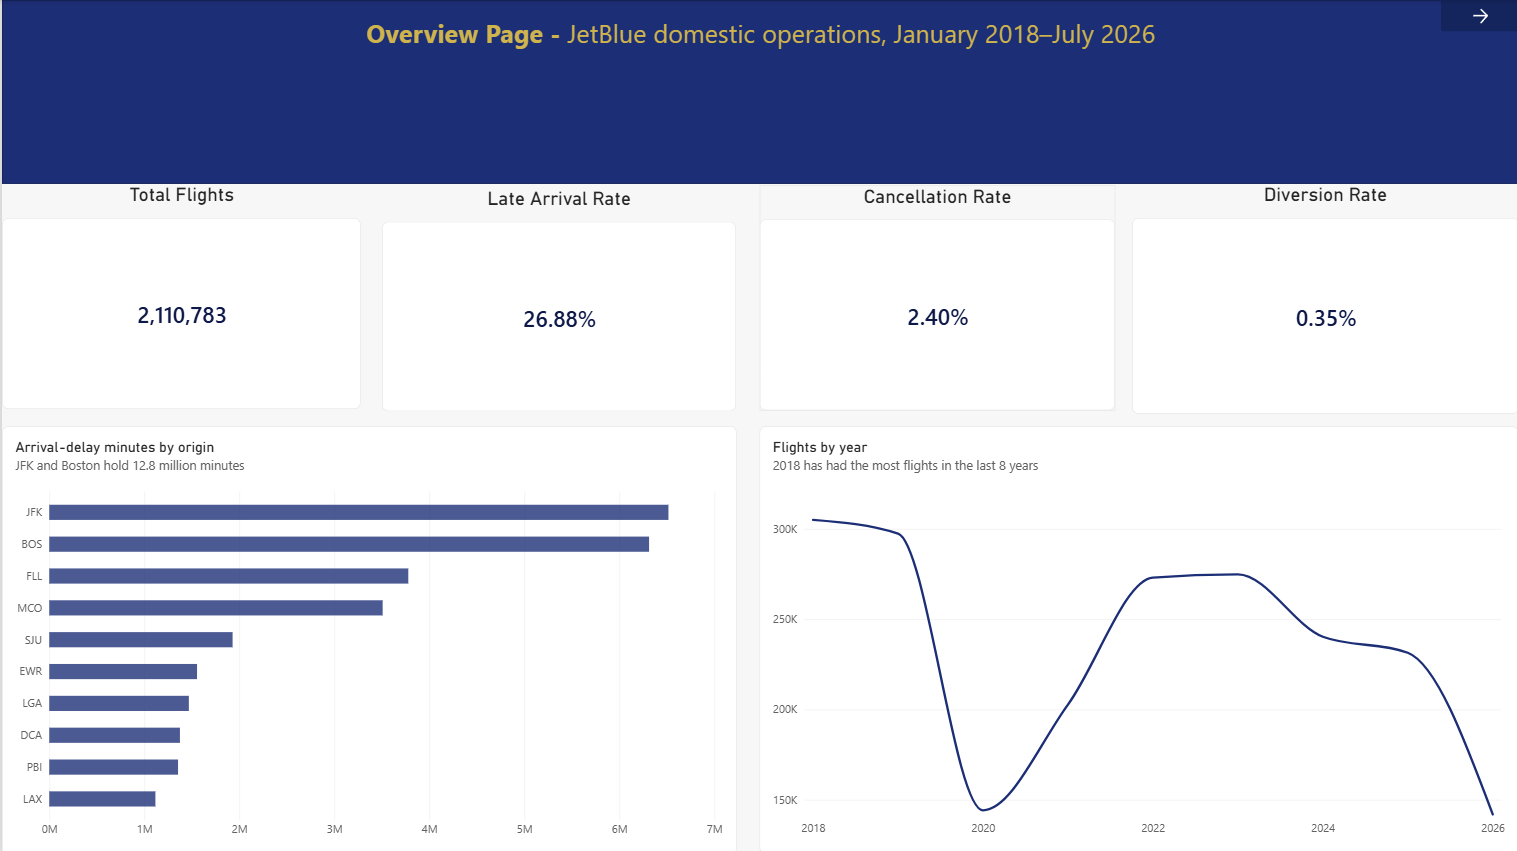

The page's visual inventory and layout, read from the dashboard file:
{"tool":"powerbi","page":{"name":"Overview","canvas":[1920,1080],"ordinal":0},"visuals":[{"type":"cardVisual","title":"Total Flights","fields":{"Data":["Fact_Flight.Flights"]},"box":[0,232.6,454.9,286.1],"z":0},{"type":"cardVisual","title":"Late Arrival Rate","fields":{"Data":["Fact_Flight.Late Arrival Rate"]},"box":[481.4,237.2,448.7,284],"z":1000},{"type":"cardVisual","title":"Cancellation Rate ","fields":{"Data":["Fact_Flight.Cancellation Rate"]},"box":[959.2,234.6,450.8,286.1],"z":2000},{"type":"cardVisual","title":"Diversion Rate ","fields":{"Data":["Fact_Flight.Diversion Rate"]},"box":[1430.2,232,490.1,291.3],"z":3000},{"type":"clusteredBarChart","title":"Arrival-delay minutes by origin","fields":{"Category":["Dim_Origin.Airport"],"Y":["Fact_Flight.Arrival Delay Minutes"]},"box":[0,539,929.7,542.4],"z":4000},{"type":"shape","box":[0,0,1920.4,232.6],"z":5000},{"type":"textbox","box":[0,20.6,1920.4,185.2],"z":6000},{"type":"actionButton","box":[1820.9,0,100,40],"z":7000},{"type":"lineChart","title":"Flights by year","fields":{"Category":["Dim_Month.Flight_Year"],"Y":["Fact_Flight.Flights"]},"box":[959.3,539,961,540.7],"z":8000}]}

Visuals, with their boxes in screenshot pixels (x1, y1, x2, y2), scaled from the page's 1920x1080 canvas onto the 1517x851 screenshot:
"Total Flights" cardVisual: box=[0, 183, 359, 409]
"Late Arrival Rate" cardVisual: box=[380, 187, 735, 411]
"Cancellation Rate " cardVisual: box=[758, 185, 1114, 410]
"Diversion Rate " cardVisual: box=[1130, 183, 1516, 412]
"Arrival-delay minutes by origin" clusteredBarChart: box=[0, 425, 735, 850]
shape: box=[0, 0, 1516, 183]
textbox: box=[0, 16, 1516, 162]
actionButton: box=[1439, 0, 1516, 32]
"Flights by year" lineChart: box=[758, 425, 1516, 850]
